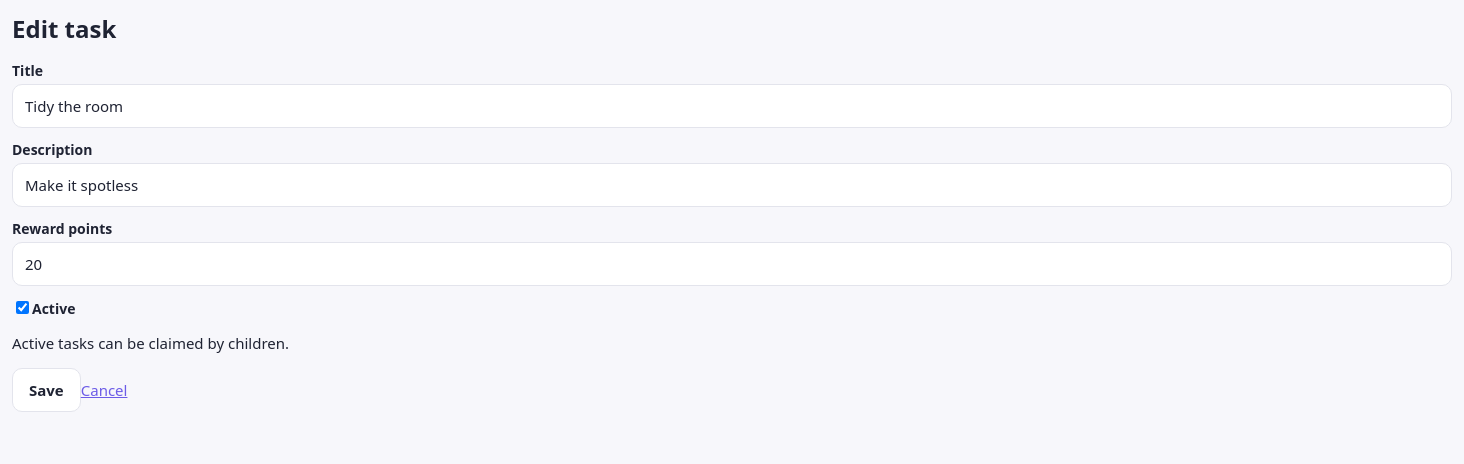
EditTaskPage › displays an API error on save failure and stays on the form
This screenshot has width=1464, height=464.
Step 1. Replace the text in the field labelled "Title" with "Changed" → (732, 106), box [12, 84, 1452, 128]
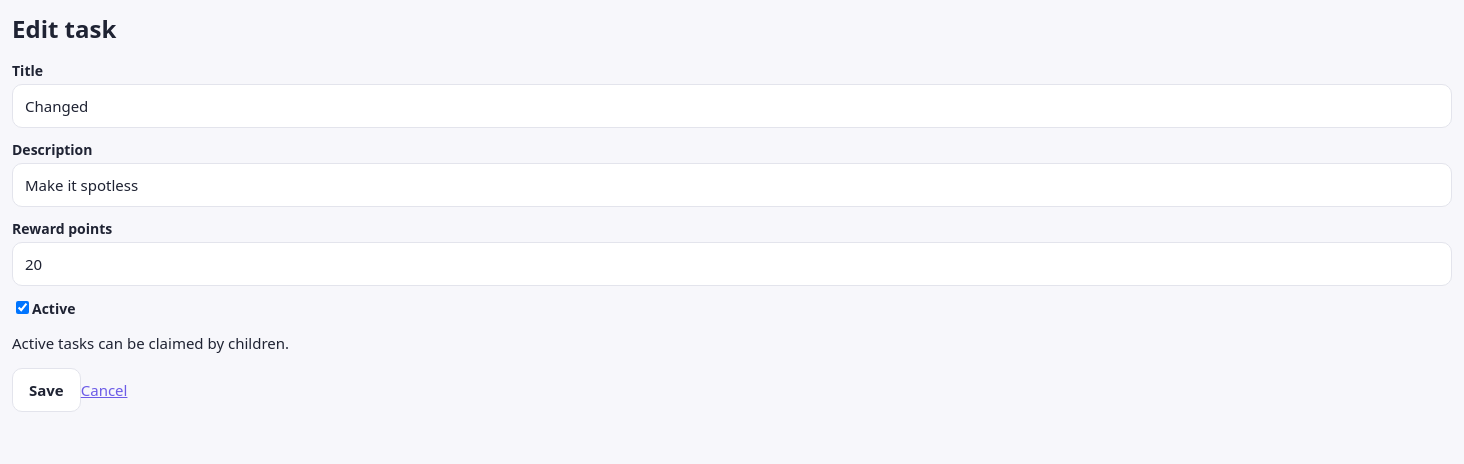
Step 2. Click the button "Save" → (46, 390), box [12, 368, 81, 412]
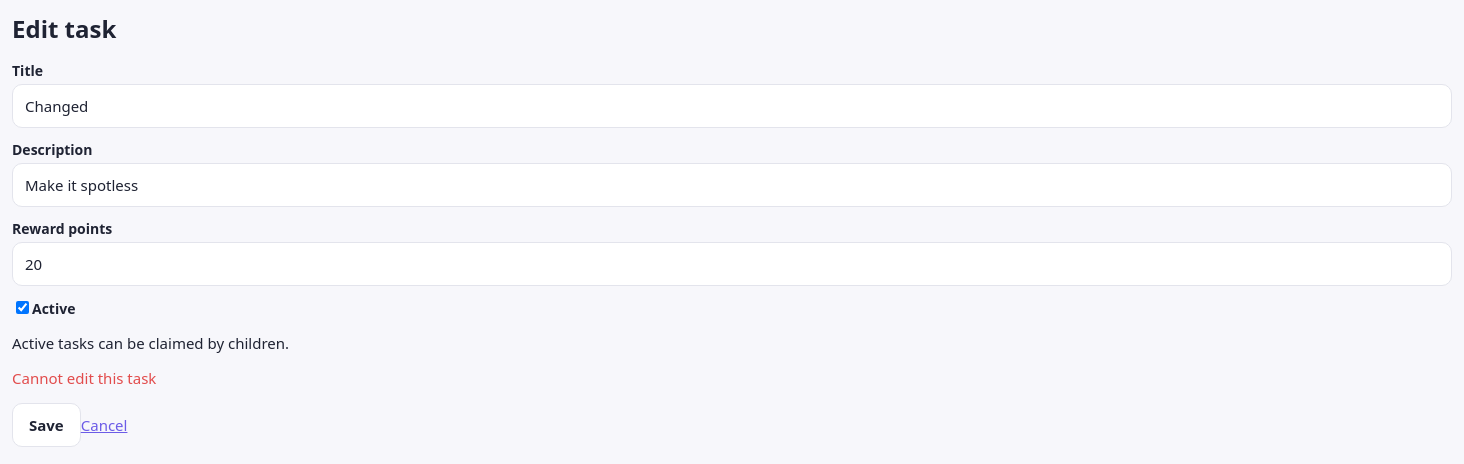
Expected: the text "Cannot edit this task" is shown, [12, 368, 156, 388]
